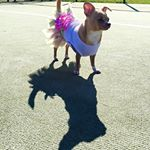puppy: (73, 1, 115, 80)
